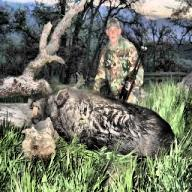boar: (30, 85, 176, 161)
